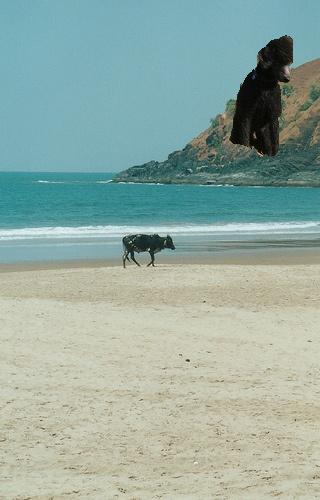tampered: (230, 36, 293, 157)
